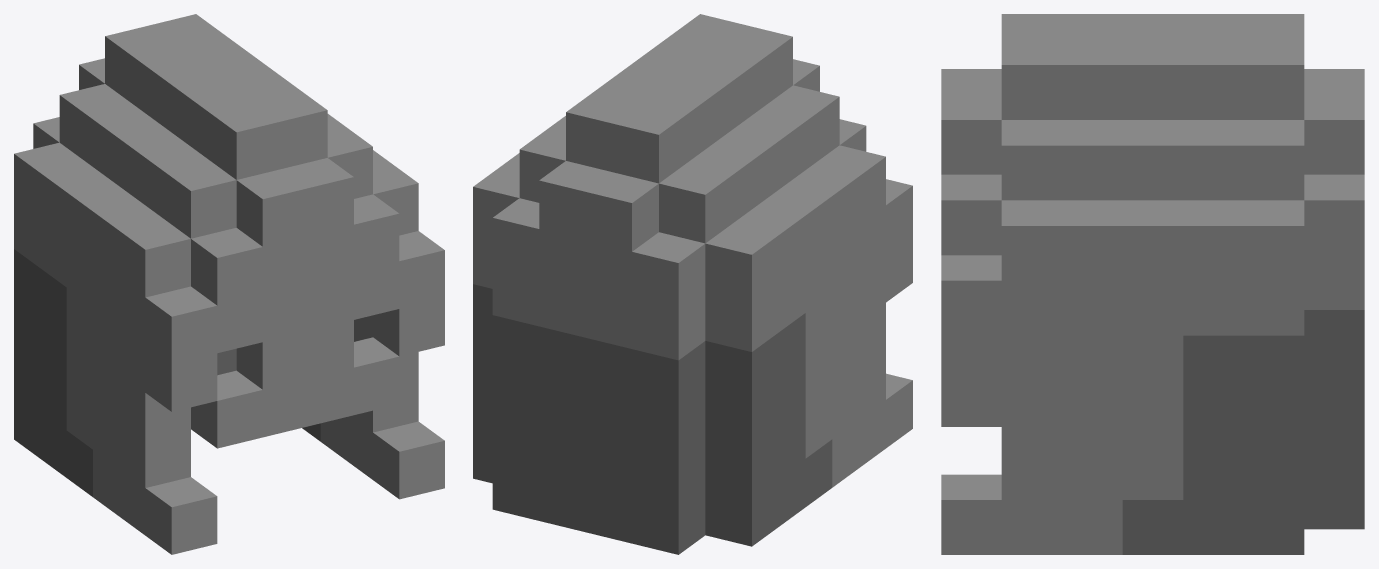
File: humanoid-207-helm_med_2c_ja.obj
3 views of the same model, side by side, from view 1: azimuth 30°, elevation 25°; view 2: azimuth 150°, elevation 25°; view 3: azimuth 270°, elevation 25° (orthographic). The views are drawn at different scales.
Parts seen in each view (by area): view 1: helm_med_2c_ja; view 2: helm_med_2c_ja; view 3: helm_med_2c_ja.
Part boxes in pixels (x1,y1,x2,y2): helm_med_2c_ja: (14,14,444,554); helm_med_2c_ja: (473,14,912,554); helm_med_2c_ja: (941,14,1364,554).
Bounding box in the file's own units: 0.6 × 0.8 × 0.7.
Materials: 1 (1 with a texture image).
